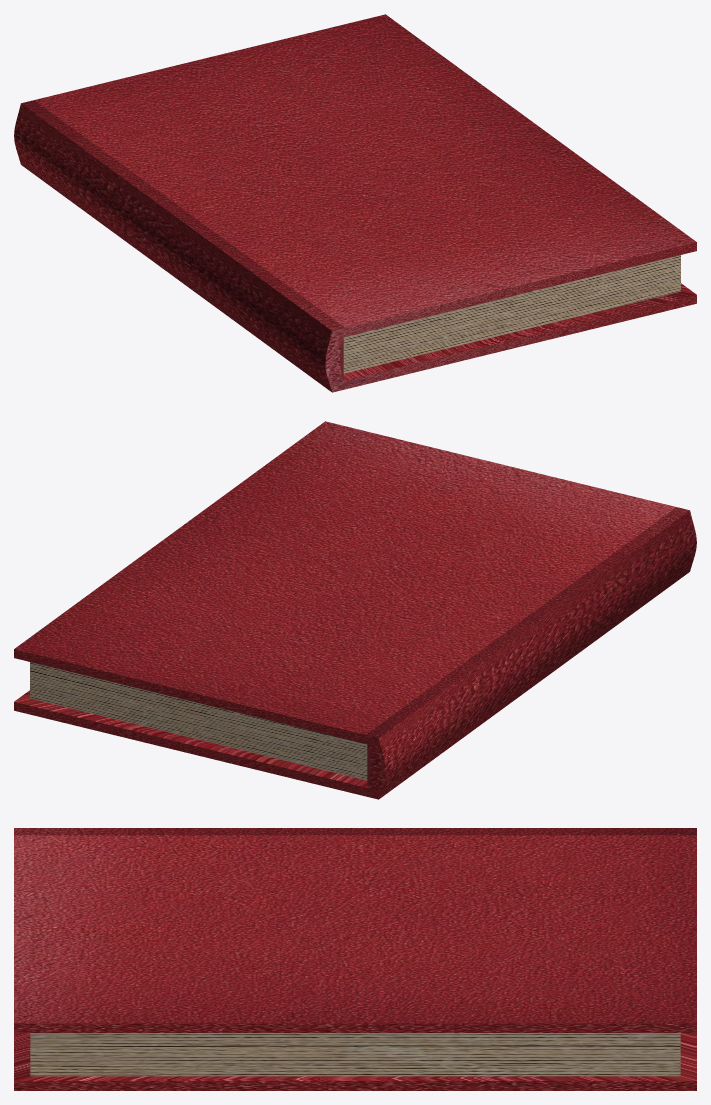
File: livro_vermelho.glb
The picture shows the model from 3 angles, top to bottom: view 1: azimuth 30°, elevation 25°; view 2: azimuth 150°, elevation 25°; view 3: azimuth 270°, elevation 25°; orthographic projection. The views are drawn at different scales.
Visible parts, largest first — view 1: Cube.001; view 2: Cube.001; view 3: Cube.001.
Boxes of the visible parts, <box> form: Cube.001: <box>14,14,696,392</box>; Cube.001: <box>14,421,696,799</box>; Cube.001: <box>14,828,696,1090</box>.
Bounding box in the file's own units: 0.5992 × 0.0947 × 0.8693.
Materials: 2 (2 with a texture image).
